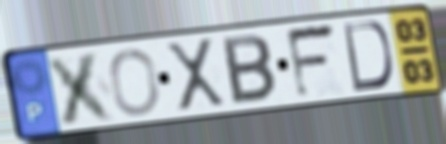B: (219, 32, 279, 108)
D: (340, 18, 396, 94)
F: (283, 20, 340, 103)
O: (107, 46, 163, 118)
X: (43, 48, 121, 127), (162, 35, 229, 115)
